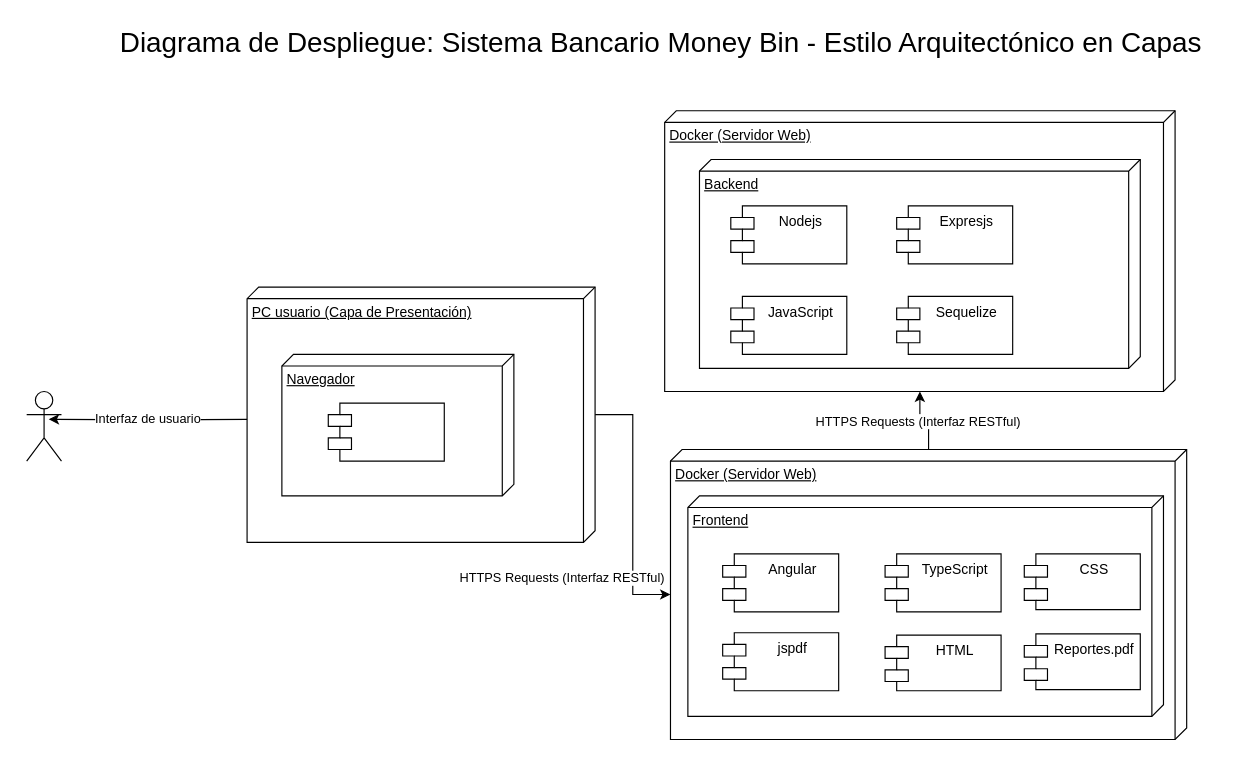
Image size: 1237x760. Some labels were removed from this diagram. Here are the shapes that lost their labels. From the top down, the centre of each, then its label:
At (x=43, y=425): "Usuario".
At (x=385, y=431): "Sitio web en HTML (Money Bin)".
